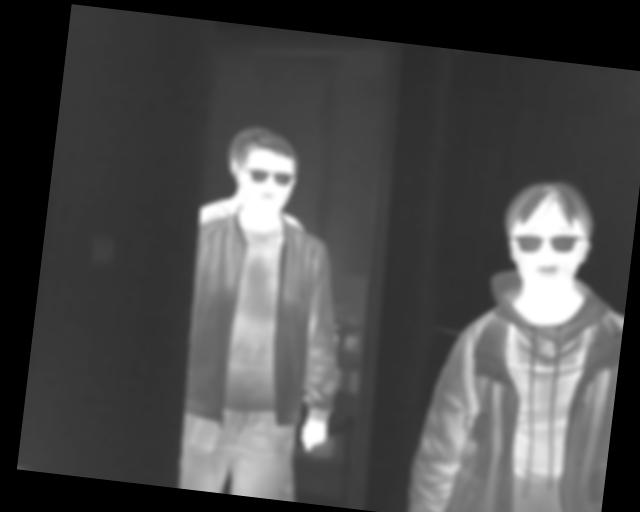face: (498, 174, 599, 297), (227, 127, 303, 219)
